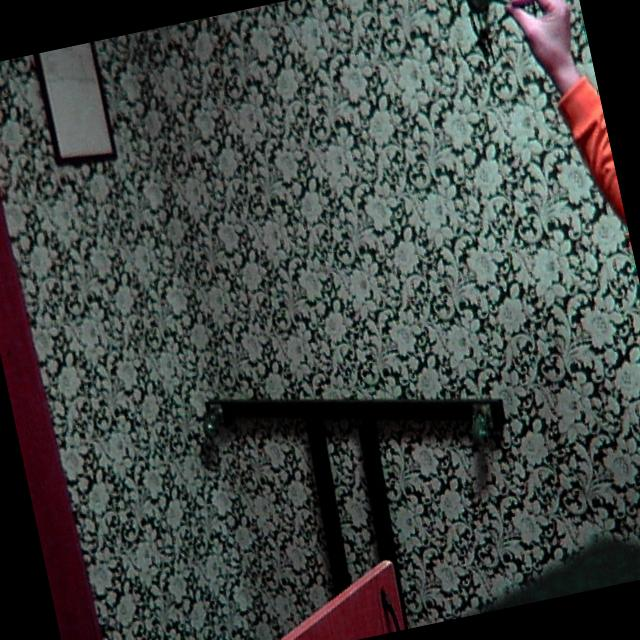drone: (414, 0, 566, 84)
